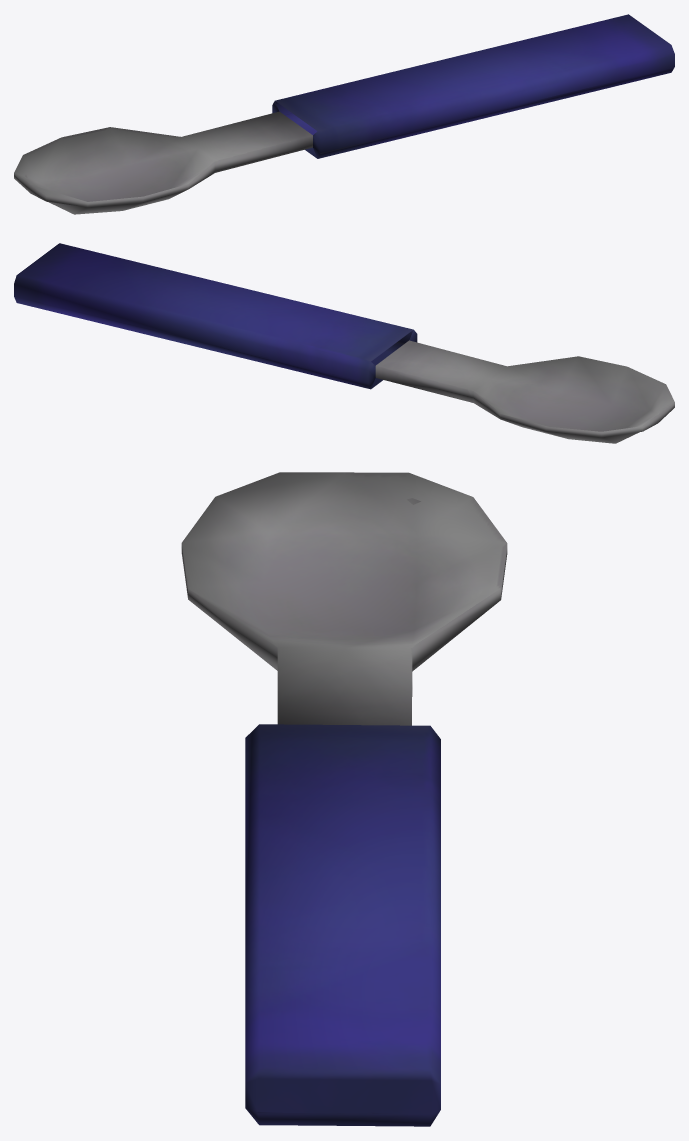
The model's file is Spoon.fbx.
3 views of the same model, one above another, from view 1: azimuth 30°, elevation 25°; view 2: azimuth 150°, elevation 25°; view 3: azimuth 270°, elevation 25° (orthographic). The views are drawn at different scales.
Visible parts, largest first — view 1: Spoon; view 2: Spoon; view 3: Spoon.
Boxes of the visible parts, x1,y1,x2,y2 form: Spoon: (14, 14, 674, 214); Spoon: (14, 243, 674, 443); Spoon: (181, 472, 507, 1126).
Size of the model in its own units: 241 by 12.36 by 54.68.
